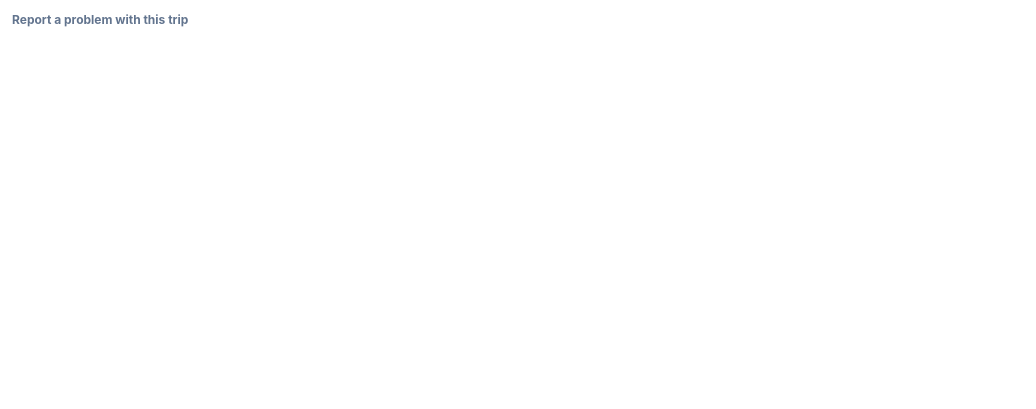
Scenario: RideIssueForm › sends the report and confirms, or shows the server's reason when refused
The width and height of the screenshot is (1036, 409).
Click the button "Report a problem with this trip" at (100, 20), box [12, 12, 188, 28]
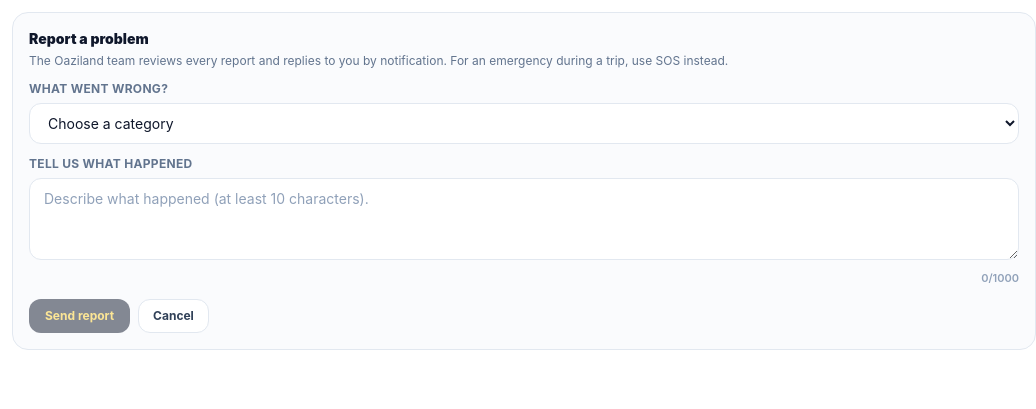
Select "Fare or payment problem" in the dropdown labelled "What went wrong?" at (524, 124), box [29, 103, 1019, 144]
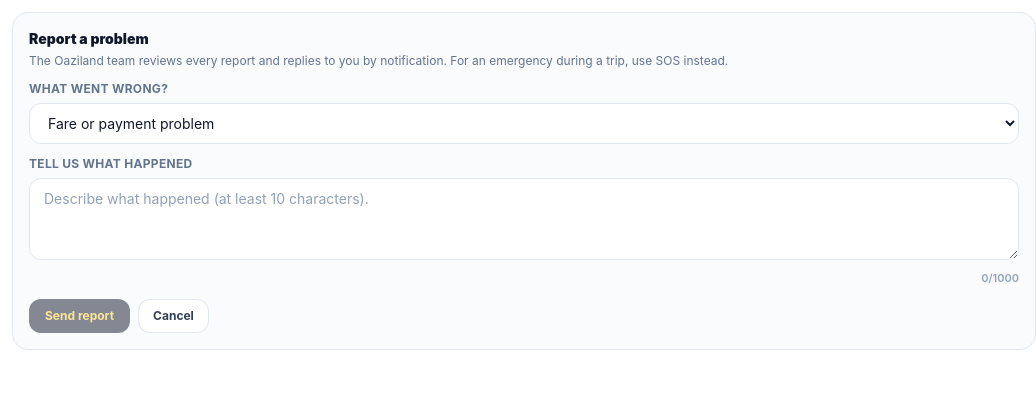
Type "short" into the text box labelled "Tell us what happened" at (524, 219), box [29, 178, 1019, 260]
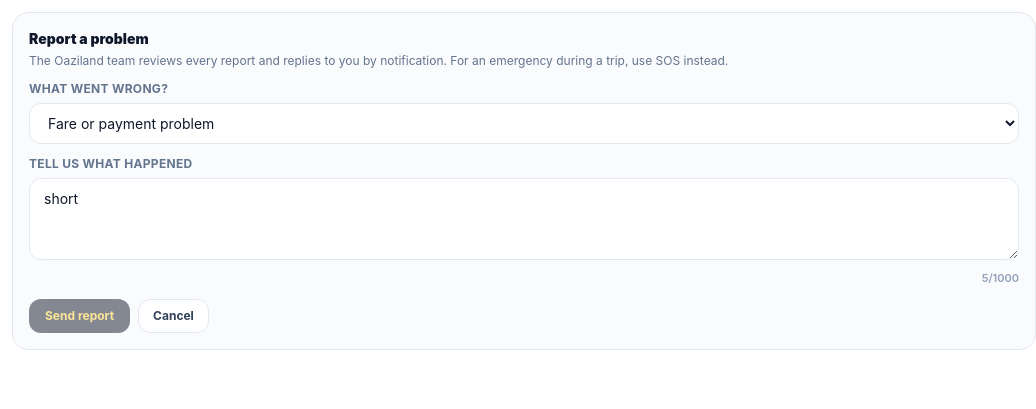
Result: the button "Send report" is disabled at [29, 298, 130, 332]
Replace the text in the text box labelled "Tell us what happened" with "Asked for extra cash at drop-off." at (524, 219), box [29, 178, 1019, 260]
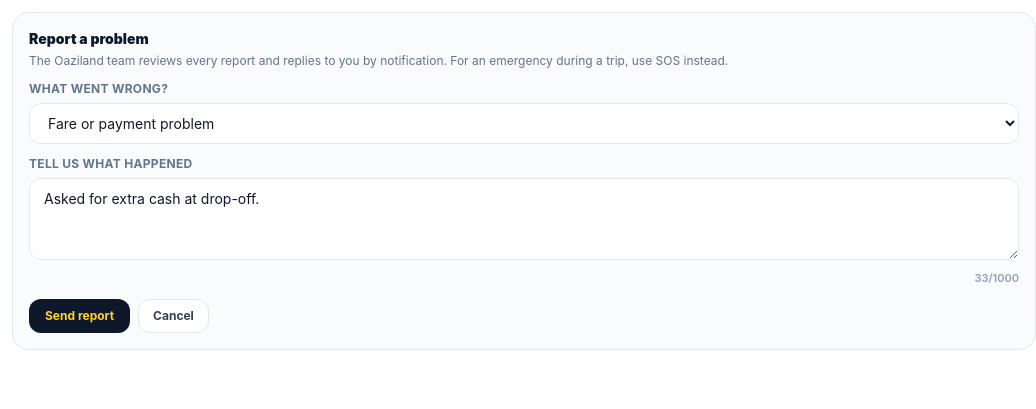
Click the button "Send report" at (80, 316), box [29, 298, 130, 332]
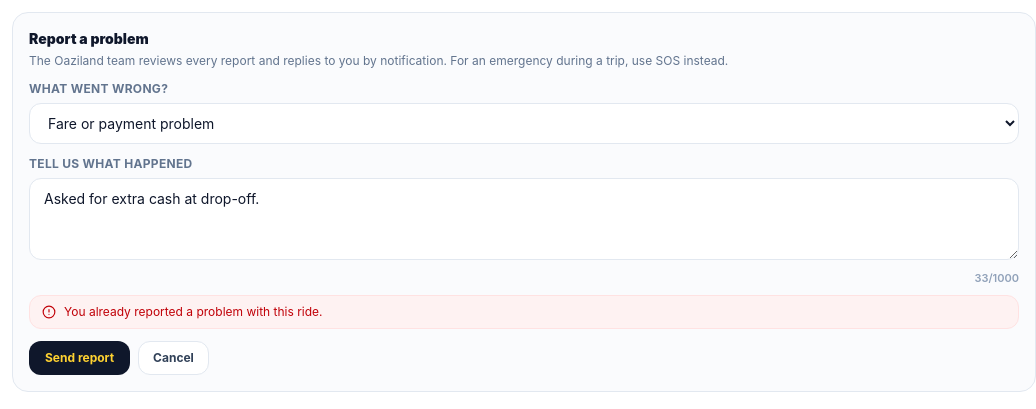
Result: the message reads "You already reported a problem with this ride." at [64, 304, 322, 318]
Click the button "Send report" at (80, 358), box [29, 340, 130, 374]
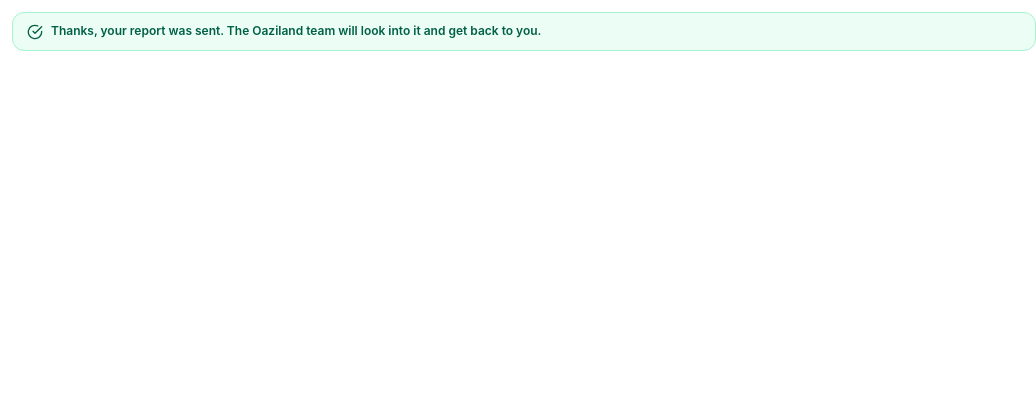
Result: the message shows "your report was sent" at [51, 23, 541, 38]
